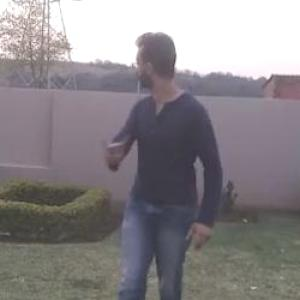takeoff-hand: (94, 128, 136, 170)
